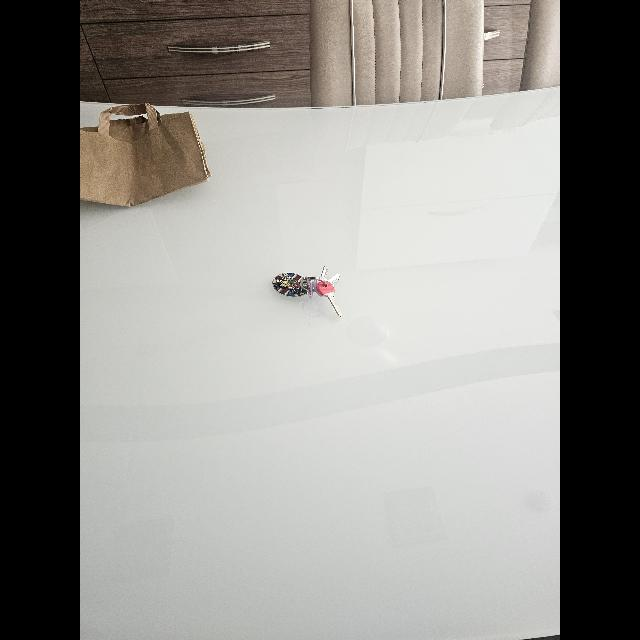Keys: (272, 265, 342, 317)
